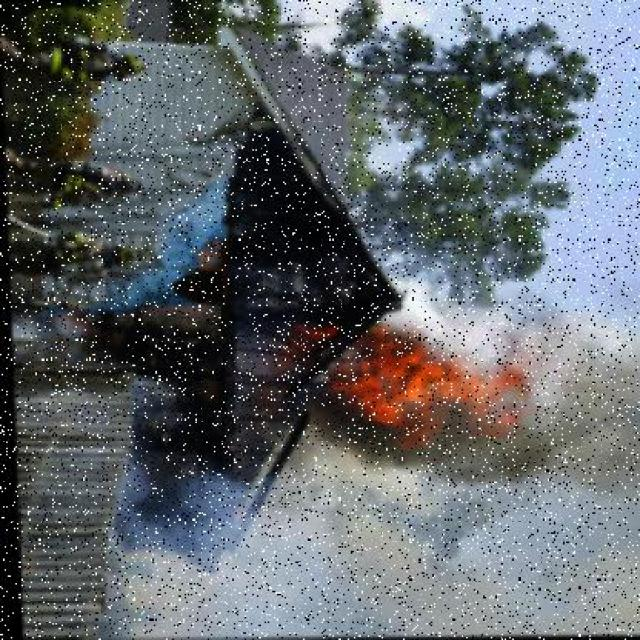fire: (324, 312, 523, 470)
